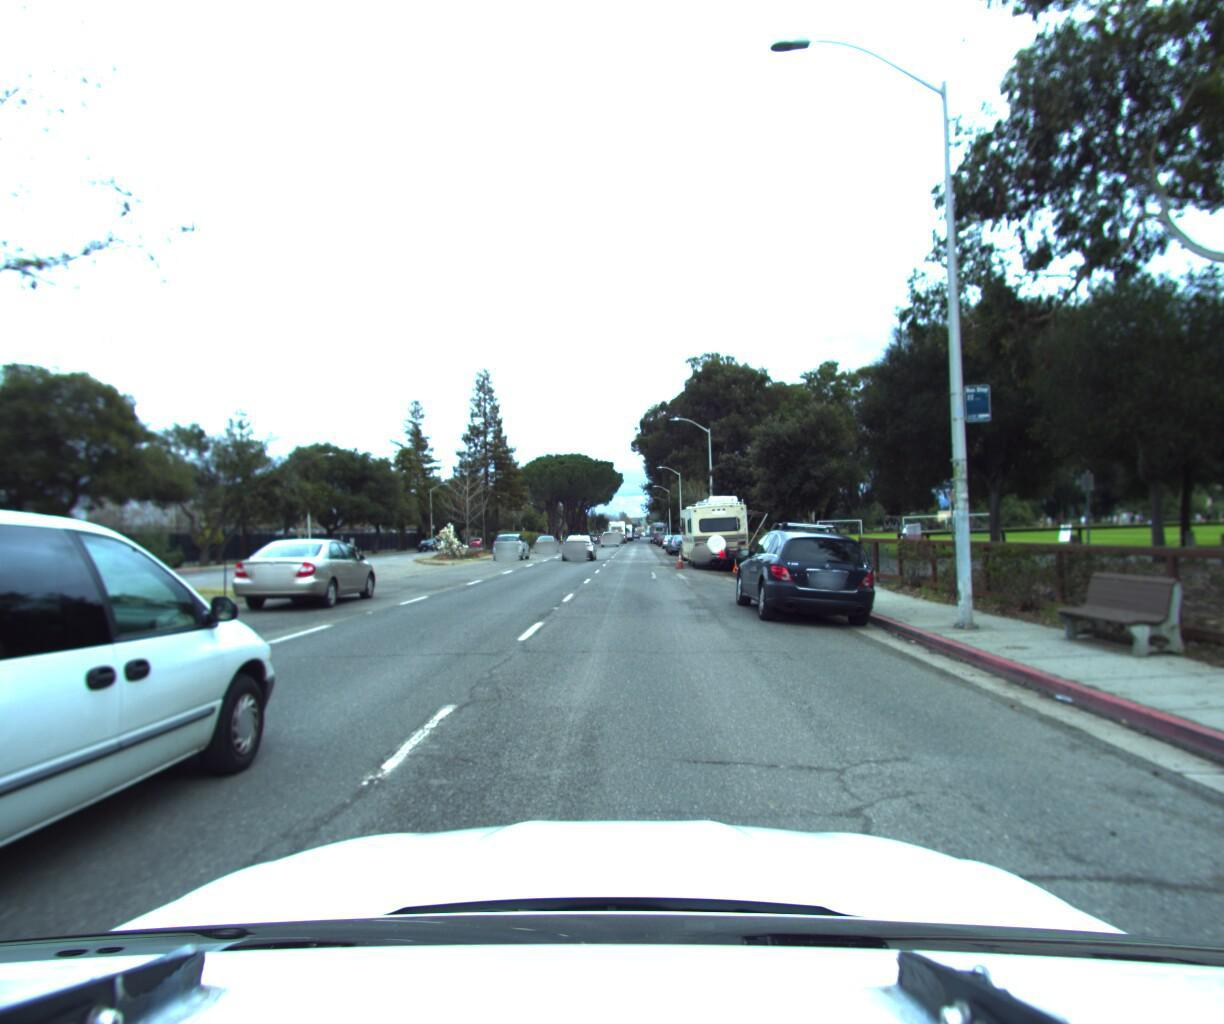car: (731, 508, 898, 629), (225, 533, 390, 618), (489, 528, 533, 560), (560, 530, 600, 560), (669, 527, 701, 551), (531, 527, 561, 550)
other_vehicle: (679, 483, 759, 567)
